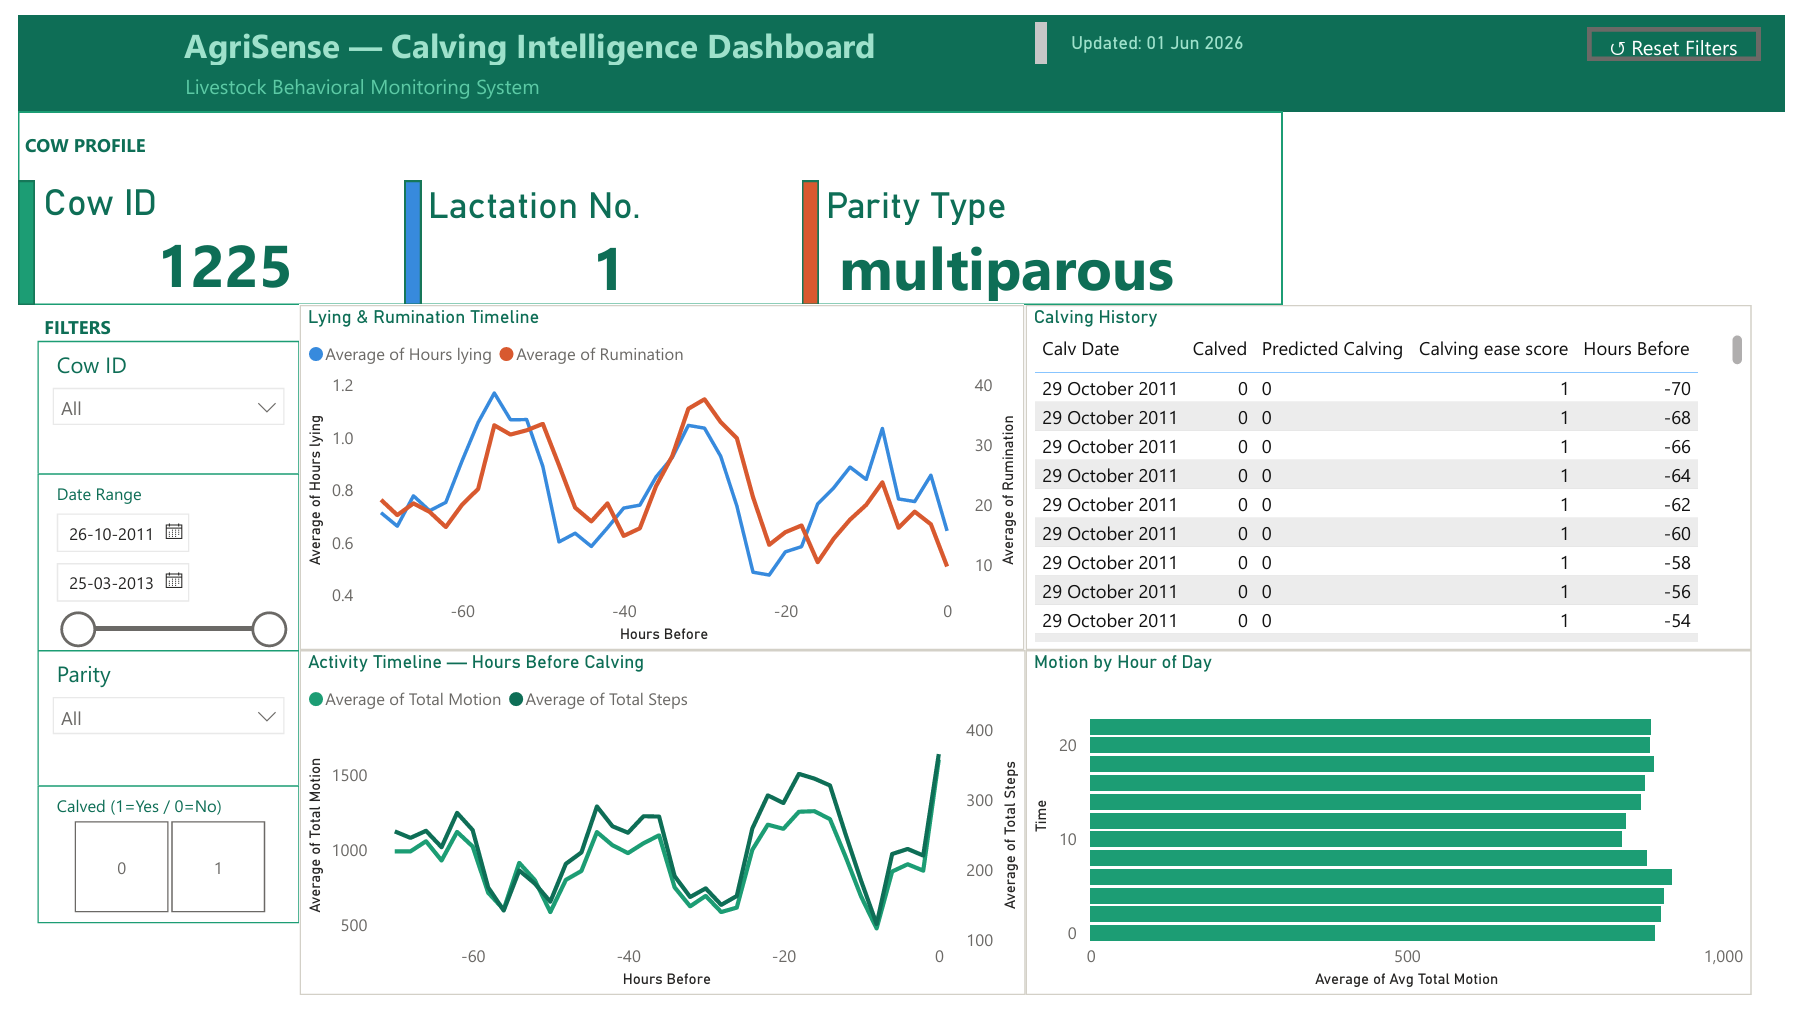

The page's visual inventory and layout, read from the dashboard file:
{"tool":"powerbi","page":{"name":"Cow Profile","canvas":[1280,720],"ordinal":3},"visuals":[{"type":"shape","box":[0,0,1280,70],"z":0},{"type":"textbox","box":[0,0,750,41.4],"z":1000},{"type":"textbox","box":[115.7,35.7,394.3,150],"z":2000},{"type":"card","fields":{"Values":["hour__1_1.Last Refreshed"]},"box":[750,2.9,151.4,35.7],"z":3000},{"type":"actionButton","title":"Export PDF ","box":[1137,9,125,24],"z":5000},{"type":"shape","box":[0,192,280,468],"z":6000},{"type":"textbox","box":[14,212,194,28],"z":7000},{"type":"slicer","title":"Cow ID","fields":{"Values":["hour__1_1.Cow"]},"box":[14,236,190,100],"z":8000},{"type":"slicer","title":"Cow ID","fields":{"Values":["hour__1_1.Date"]},"box":[14,332,190,130],"z":9000},{"type":"slicer","title":"Cow ID","fields":{"Values":["hour__1_1.Parity"]},"box":[14,460,190,100],"z":10000},{"type":"slicer","title":"Cow ID","fields":{"Values":["hour__1_1.Calved"]},"box":[14,558,190,100],"z":11000},{"type":"shape","box":[0,70,916,140],"z":12000},{"type":"card","title":"Cow ID","fields":{"Values":["Min(hour__1_1.Cow)"]},"box":[14,120,272,90],"z":13000},{"type":"shape","box":[0,120,12,90],"z":14000},{"type":"card","title":"Lactation No.","fields":{"Values":["Min(hour__1_1.Lactation Number In Data)"]},"box":[292,122,272,90],"z":15000},{"type":"card","title":"Parity Type","fields":{"Values":["Min(hour__1_1.Parity)"]},"box":[580,122,272,90],"z":16000},{"type":"shape","box":[280,120,12,90],"z":17000},{"type":"shape","box":[568,120,12,90],"z":18000},{"type":"textbox","box":[0,80,364,40],"z":19000},{"type":"lineChart","title":"Lying & Rumination Timeline","fields":{"Category":["hour__1_1.Hours Before"],"Y":["Avg(hour__1_1.Hours lying)"],"Y2":["Avg(hour__1_1.Rumination)"]},"box":[204,210,525,250],"z":20000},{"type":"tableEx","title":"Calving History","fields":{"Values":["hour__1_1.Calv Date","hour__1_1.Calved","hour__1_1.Predicted Calving","hour__1_1.Calving ease score","hour__1_1.Hours Before"]},"box":[730,210,526,250],"z":21000},{"type":"clusteredBarChart","title":"Motion by Hour of Day","fields":{"Y":["Avg(hour__1_1.Avg Total Motion)"],"Category":["hour__1_1.Time"]},"box":[730,460,526,250],"z":22000},{"type":"lineChart","title":"Activity Timeline — Hours Before Calving","fields":{"Category":["hour__1_1.Hours Before"],"Y":["Avg(hour__1_1.Total Motion)"],"Y2":["Avg(hour__1_1.Total Steps)"]},"box":[204,460,526,250],"z":23000}]}

Visuals, with their boxes in screenshot pixels (x1, y1, x2, y2), scaled from the page's 1280x720 canvas onto the 1807x1012 screenshot:
shape: crop(0, 0, 1806, 98)
textbox: crop(0, 0, 1059, 58)
textbox: crop(163, 50, 720, 261)
card - hour__1_1.Last Refreshed: crop(1059, 4, 1273, 54)
"Export PDF " actionButton: crop(1605, 13, 1782, 46)
shape: crop(0, 270, 395, 928)
textbox: crop(20, 298, 294, 337)
"Cow ID" slicer: crop(20, 332, 288, 472)
"Cow ID" slicer: crop(20, 467, 288, 649)
"Cow ID" slicer: crop(20, 647, 288, 787)
"Cow ID" slicer: crop(20, 784, 288, 925)
shape: crop(0, 98, 1293, 295)
"Cow ID" card: crop(20, 169, 404, 295)
shape: crop(0, 169, 17, 295)
"Lactation No." card: crop(412, 171, 796, 298)
"Parity Type" card: crop(819, 171, 1203, 298)
shape: crop(395, 169, 412, 295)
shape: crop(802, 169, 819, 295)
textbox: crop(0, 112, 514, 169)
"Lying & Rumination Timeline" lineChart: crop(288, 295, 1029, 647)
"Calving History" tableEx: crop(1031, 295, 1773, 647)
"Motion by Hour of Day" clusteredBarChart: crop(1031, 647, 1773, 998)
"Activity Timeline — Hours Before Calving" lineChart: crop(288, 647, 1031, 998)
